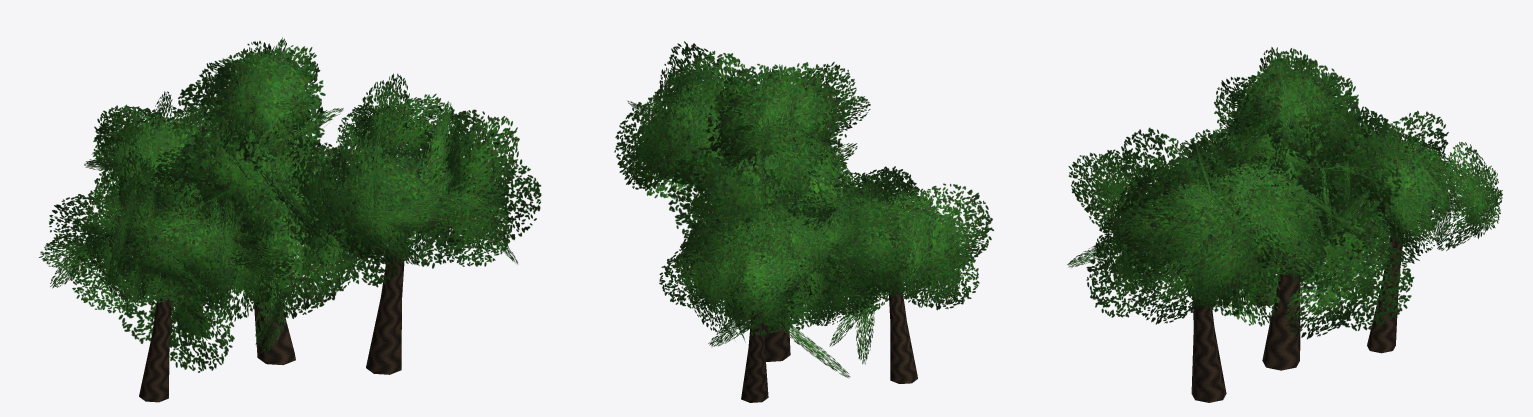
The model's file is clump_b.glb.
3 renders of one model, left to right at view 1: azimuth 30°, elevation 25°; view 2: azimuth 150°, elevation 25°; view 3: azimuth 270°, elevation 25°, orthographic. The views are drawn at different scales.
Parts seen in each view (by area): view 1: clump_b; view 2: clump_b; view 3: clump_b.
Part boxes in pixels (left/top/right/bottom): clump_b: left=39, top=37, right=541, bottom=402; clump_b: left=614, top=41, right=993, bottom=402; clump_b: left=1067, top=47, right=1502, bottom=402.
Size of the model in its own units: 2.26 by 1.74 by 2.17.
2 materials, 2 textured.
